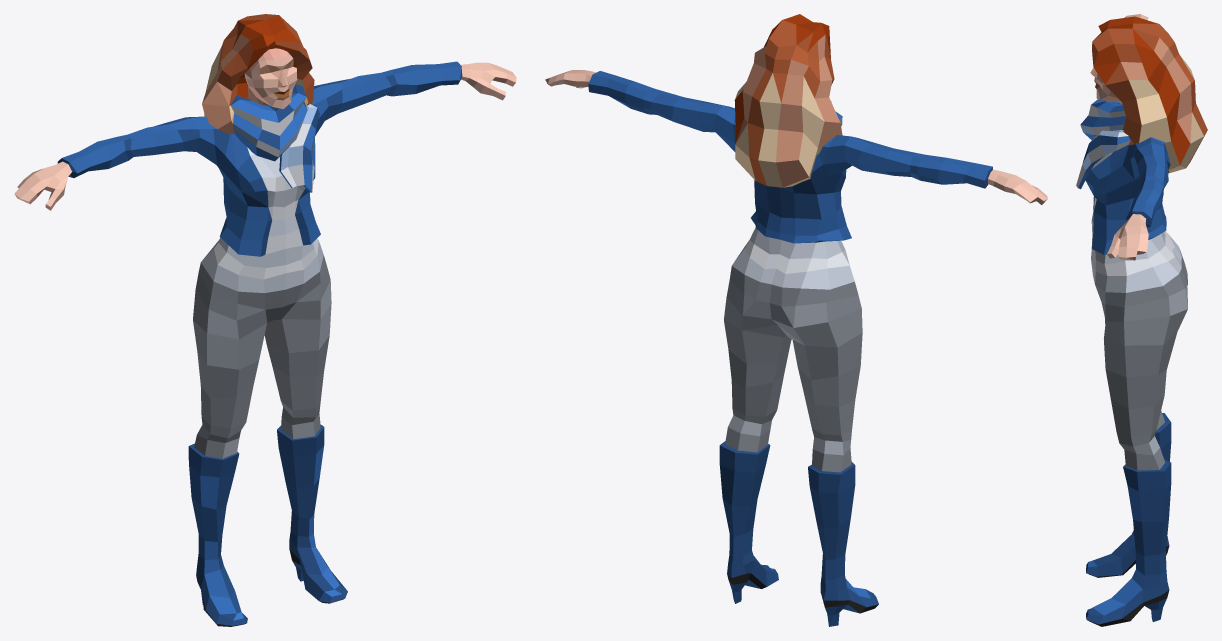
File: winter_Female_B-model.fbx
The picture shows the model from 3 angles, left to right: view 1: azimuth 30°, elevation 25°; view 2: azimuth 150°, elevation 25°; view 3: azimuth 270°, elevation 25°; orthographic projection.
Visible parts, largest first — view 1: winter_Female_B, acc_hair_long, acc_scarf; view 2: winter_Female_B, acc_hair_long; view 3: winter_Female_B, acc_hair_long, acc_scarf.
Part boxes in pixels (left/top/right/bottom): winter_Female_B: left=14, top=48, right=516, bottom=626; acc_hair_long: left=202, top=14, right=314, bottom=134; acc_scarf: left=230, top=84, right=319, bottom=192; winter_Female_B: left=545, top=70, right=1047, bottom=626; acc_hair_long: left=734, top=14, right=842, bottom=187; winter_Female_B: left=1085, top=14, right=1187, bottom=626; acc_hair_long: left=1092, top=16, right=1207, bottom=173; acc_scarf: left=1076, top=99, right=1130, bottom=189.
Bounding box in the file's own units: 154 × 172 × 35.68.
Materials: 1 (1 with a texture image).
